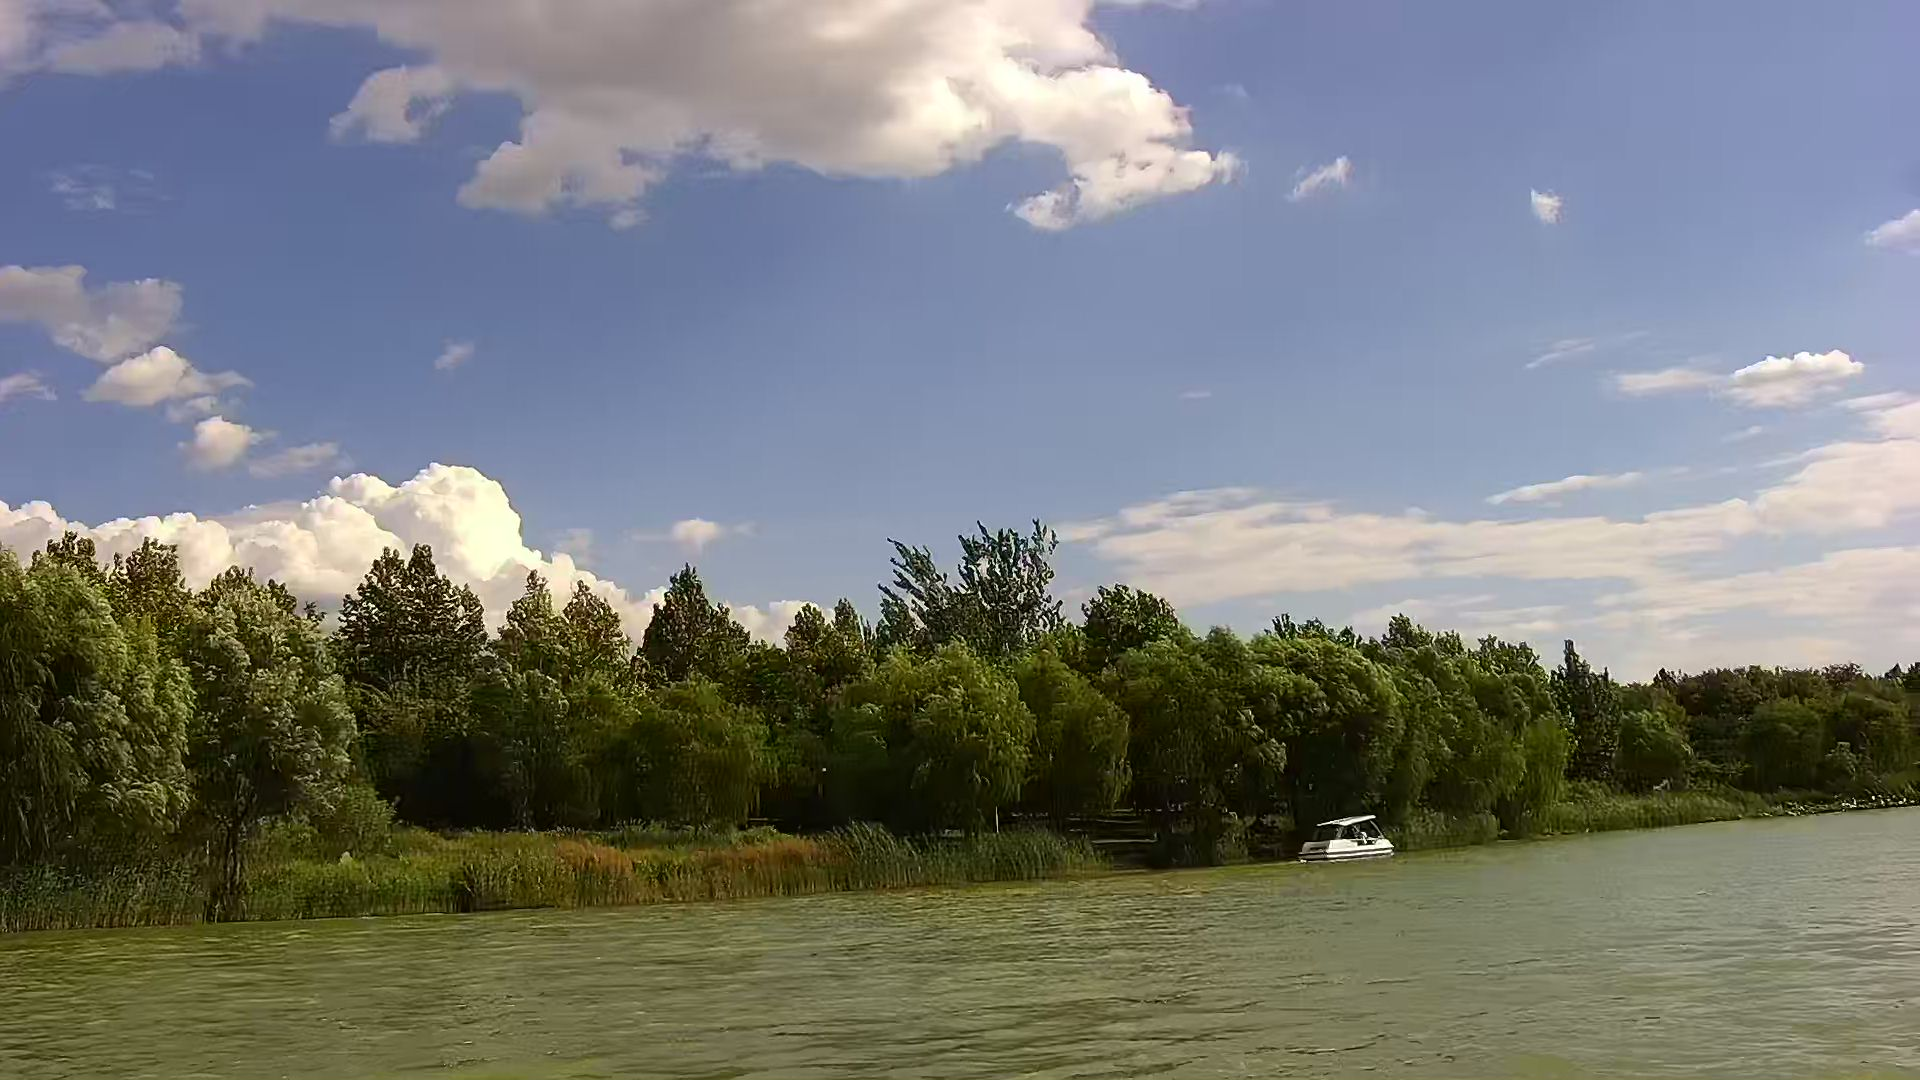boat: (1296, 816, 1393, 864)
